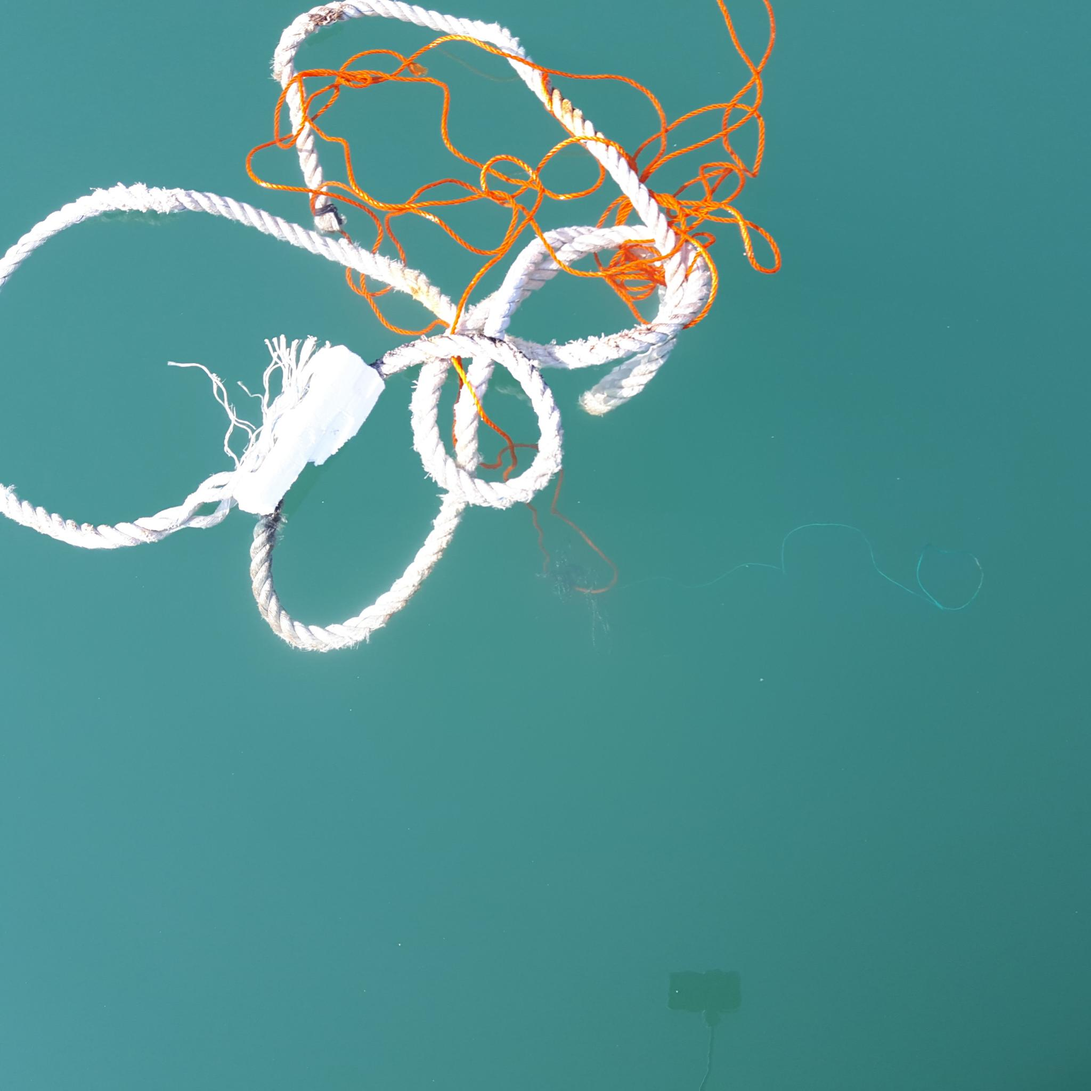sampah_terapung: (1, 1, 783, 654), (232, 345, 386, 516)
